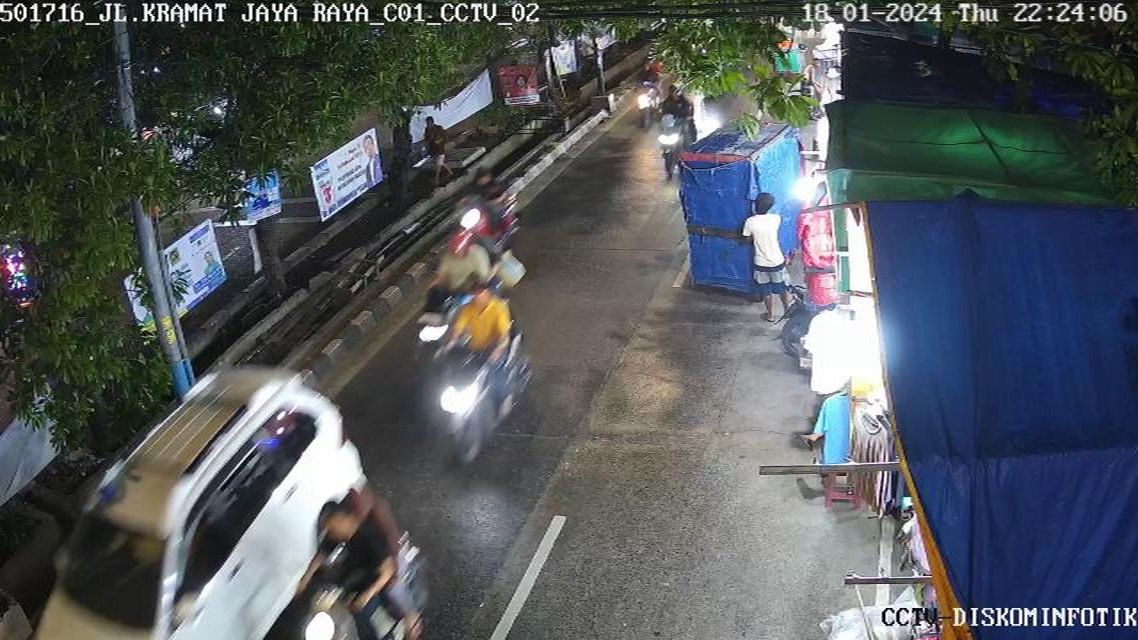Gerobak: (669, 117, 814, 302), (757, 9, 820, 81)
